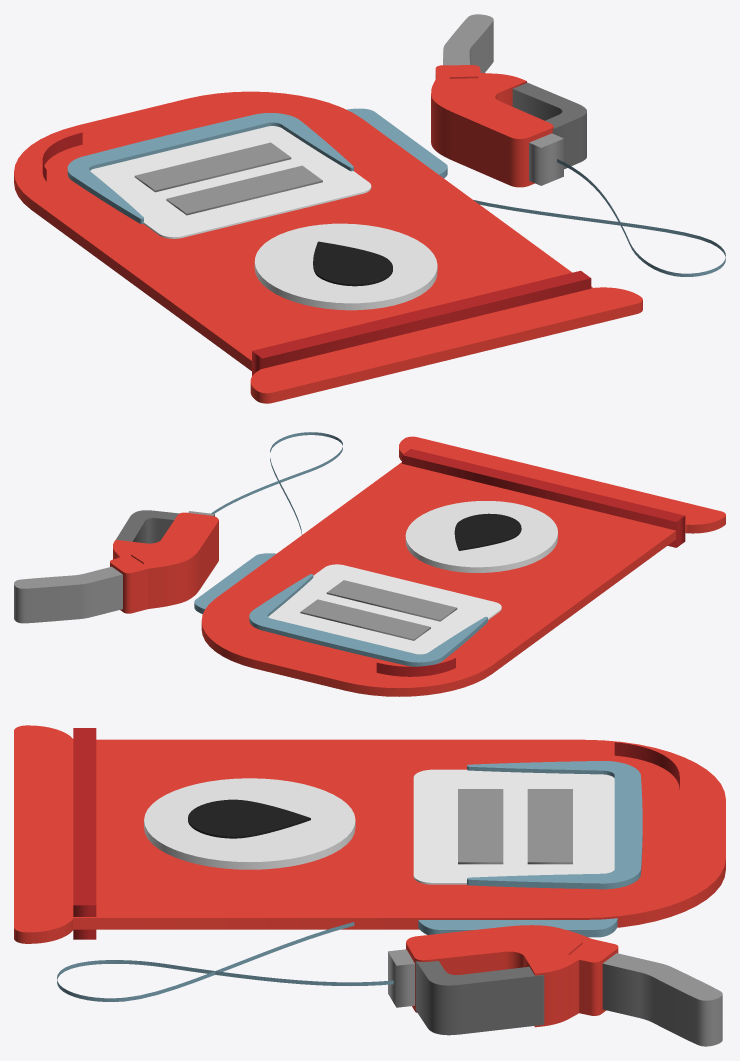
Rendered from emoji_u26fd.glb.
The picture shows the model from 3 angles, top to bottom: view 1: azimuth 30°, elevation 25°; view 2: azimuth 150°, elevation 25°; view 3: azimuth 270°, elevation 25°; orthographic projection. The views are drawn at different scales.
Visible parts, largest first — view 1: emoji_u26fd; view 2: emoji_u26fd; view 3: emoji_u26fd.
Boxes of the visible parts, x1,y1,x2,y2 form: emoji_u26fd: [14, 14, 725, 403]; emoji_u26fd: [14, 432, 725, 696]; emoji_u26fd: [14, 725, 725, 1046].
Bounding box in the file's own units: 0.0328 × 0.003 × 0.0338.
